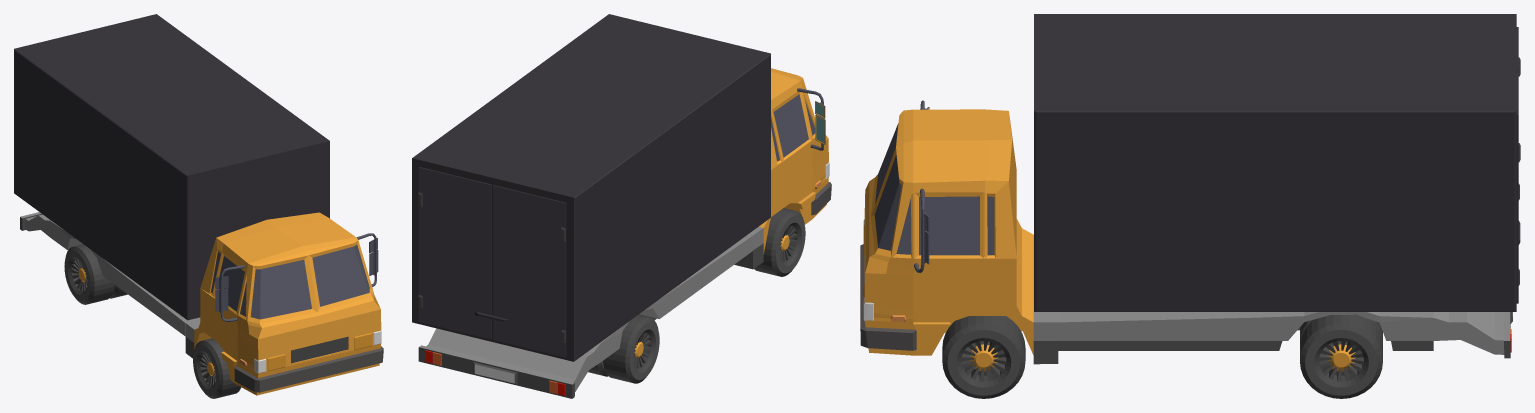
Rendered from Грузовик.fbx.
The picture shows the model from 3 angles, left to right: view 1: azimuth 30°, elevation 25°; view 2: azimuth 150°, elevation 25°; view 3: azimuth 270°, elevation 25°; orthographic projection. The views are drawn at different scales.
Parts seen in each view (by area): view 1: Cube.002, RR1, FR; view 2: Cube.002, RR1, FR; view 3: Cube.002, RL1, FL.
Part boxes in pixels (<box>): Cube.002: <box>14,14,383,395</box>; RR1: <box>64,244,114,304</box>; FR: <box>193,338,240,398</box>; Cube.002: <box>412,14,831,398</box>; RR1: <box>602,315,659,383</box>; FR: <box>754,208,805,276</box>; Cube.002: <box>860,14,1520,364</box>; RL1: <box>1300,314,1382,398</box>; FL: <box>942,316,1025,398</box>.
Bounding box in the file's own units: 727 × 891 × 1836.
